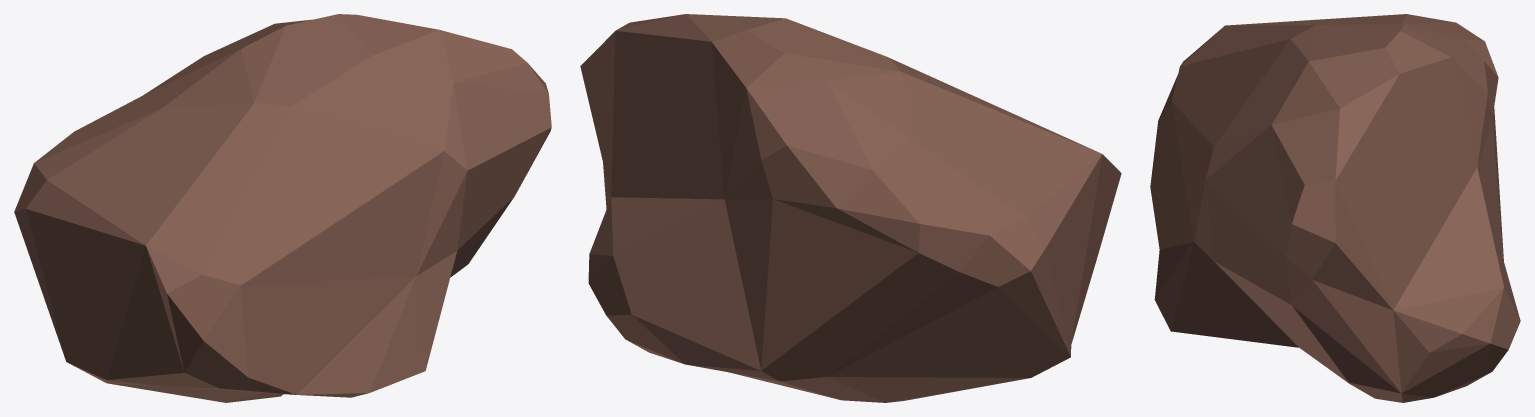
Rendered from MonsterDenRock1.fbx.
3 views of the same model, side by side, from view 1: azimuth 30°, elevation 25°; view 2: azimuth 150°, elevation 25°; view 3: azimuth 270°, elevation 25° (orthographic). The views are drawn at different scales.
Parts seen in each view (by area): view 1: Rock.005; view 2: Rock.005; view 3: Rock.005.
Boxes of the visible parts, x1,y1,x2,y2 form: Rock.005: (14,14,551,402); Rock.005: (580,14,1121,402); Rock.005: (1150,14,1520,402).
Size of the model in its own units: 1085 by 746 by 685.
